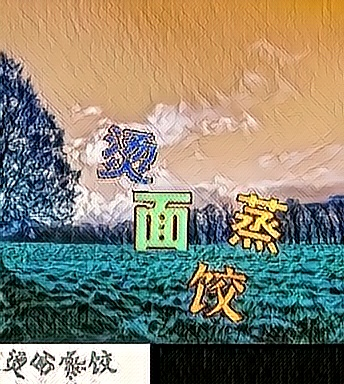BDC8: (187, 258, 250, 324)
C3E6: (130, 188, 193, 254)
CCCC: (96, 120, 159, 186)
D5F4: (226, 190, 289, 256)
